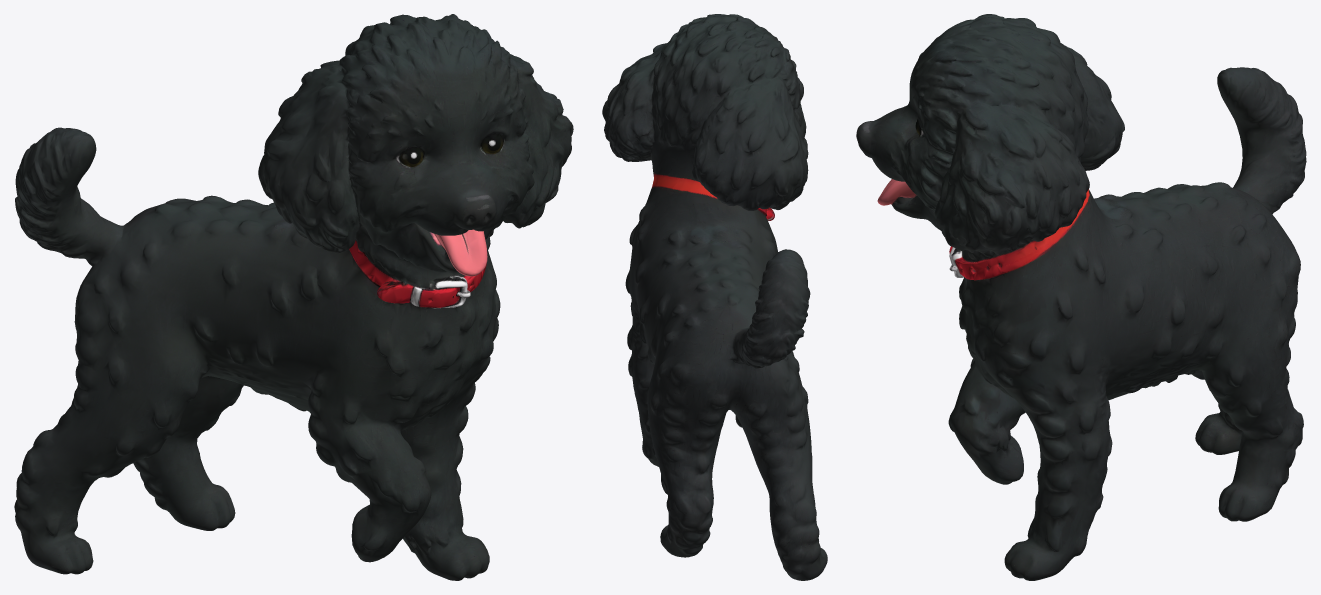
The model's file is chuck_poodle_slim.glb.
3 renders of one model, left to right at view 1: azimuth 30°, elevation 25°; view 2: azimuth 150°, elevation 25°; view 3: azimuth 270°, elevation 25°, orthographic. The views are drawn at different scales.
Visible parts, largest first — view 1: mesh_node; view 2: mesh_node; view 3: mesh_node.
Boxes of the visible parts, x1,y1,x2,y2 form: mesh_node: [14, 14, 573, 580]; mesh_node: [602, 14, 827, 580]; mesh_node: [856, 14, 1306, 580].
Bounding box in the file's own units: 1.41 × 1.9 × 1.47.
1 material, 1 textured.
